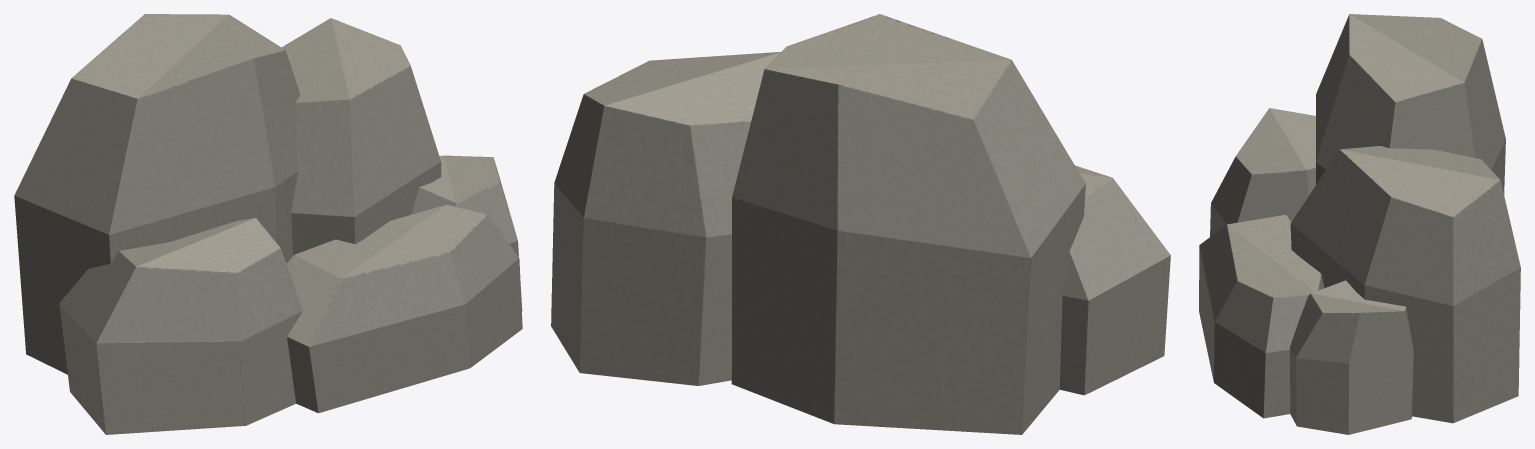
File: rock-cluster.glb
The picture shows the model from 3 angles, left to right: view 1: azimuth 30°, elevation 25°; view 2: azimuth 150°, elevation 25°; view 3: azimuth 270°, elevation 25°; orthographic projection. The views are drawn at different scales.
Visible parts, largest first — view 1: rock-cluster; view 2: rock-cluster; view 3: rock-cluster.
Part boxes in pixels (<box>): rock-cluster: <box>14,14,522,434</box>; rock-cluster: <box>551,14,1170,434</box>; rock-cluster: <box>1199,14,1520,434</box>.
Size of the model in its own units: 2.92 by 1.74 by 1.92.
Materials: 1 (1 with a texture image).
